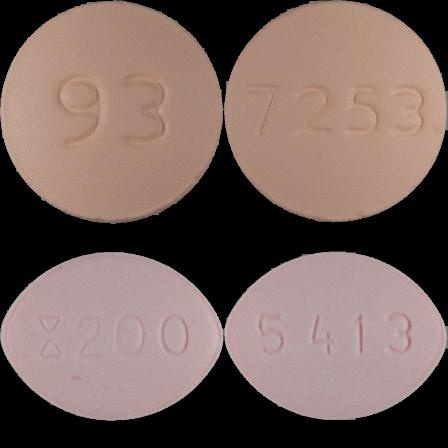33261-228: (0, 0, 224, 224)
